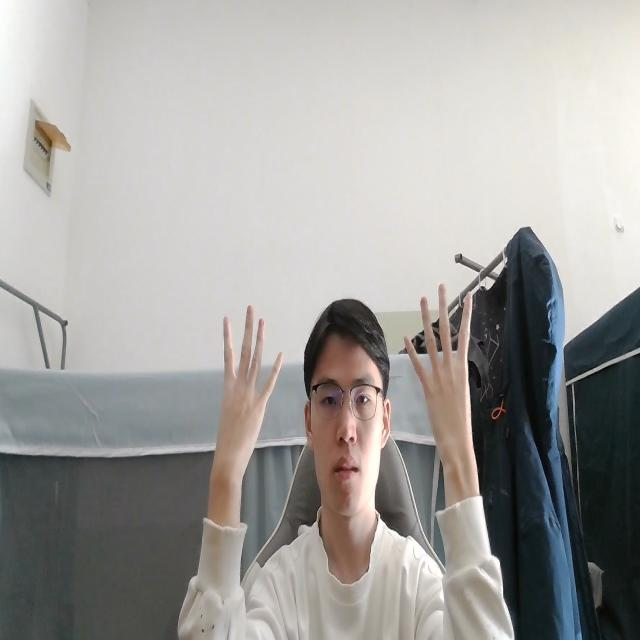four: (208, 297, 284, 494), (402, 276, 476, 474)
